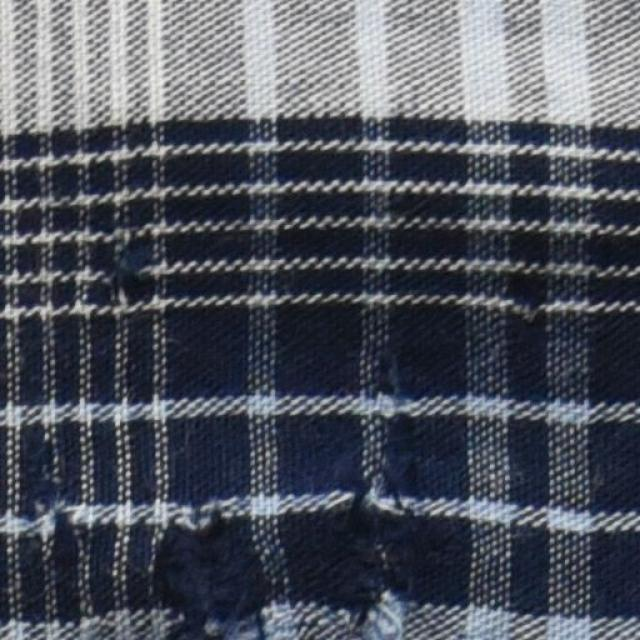Snag: (139, 495, 285, 639), (317, 462, 408, 607), (16, 447, 87, 543), (87, 225, 160, 318)
